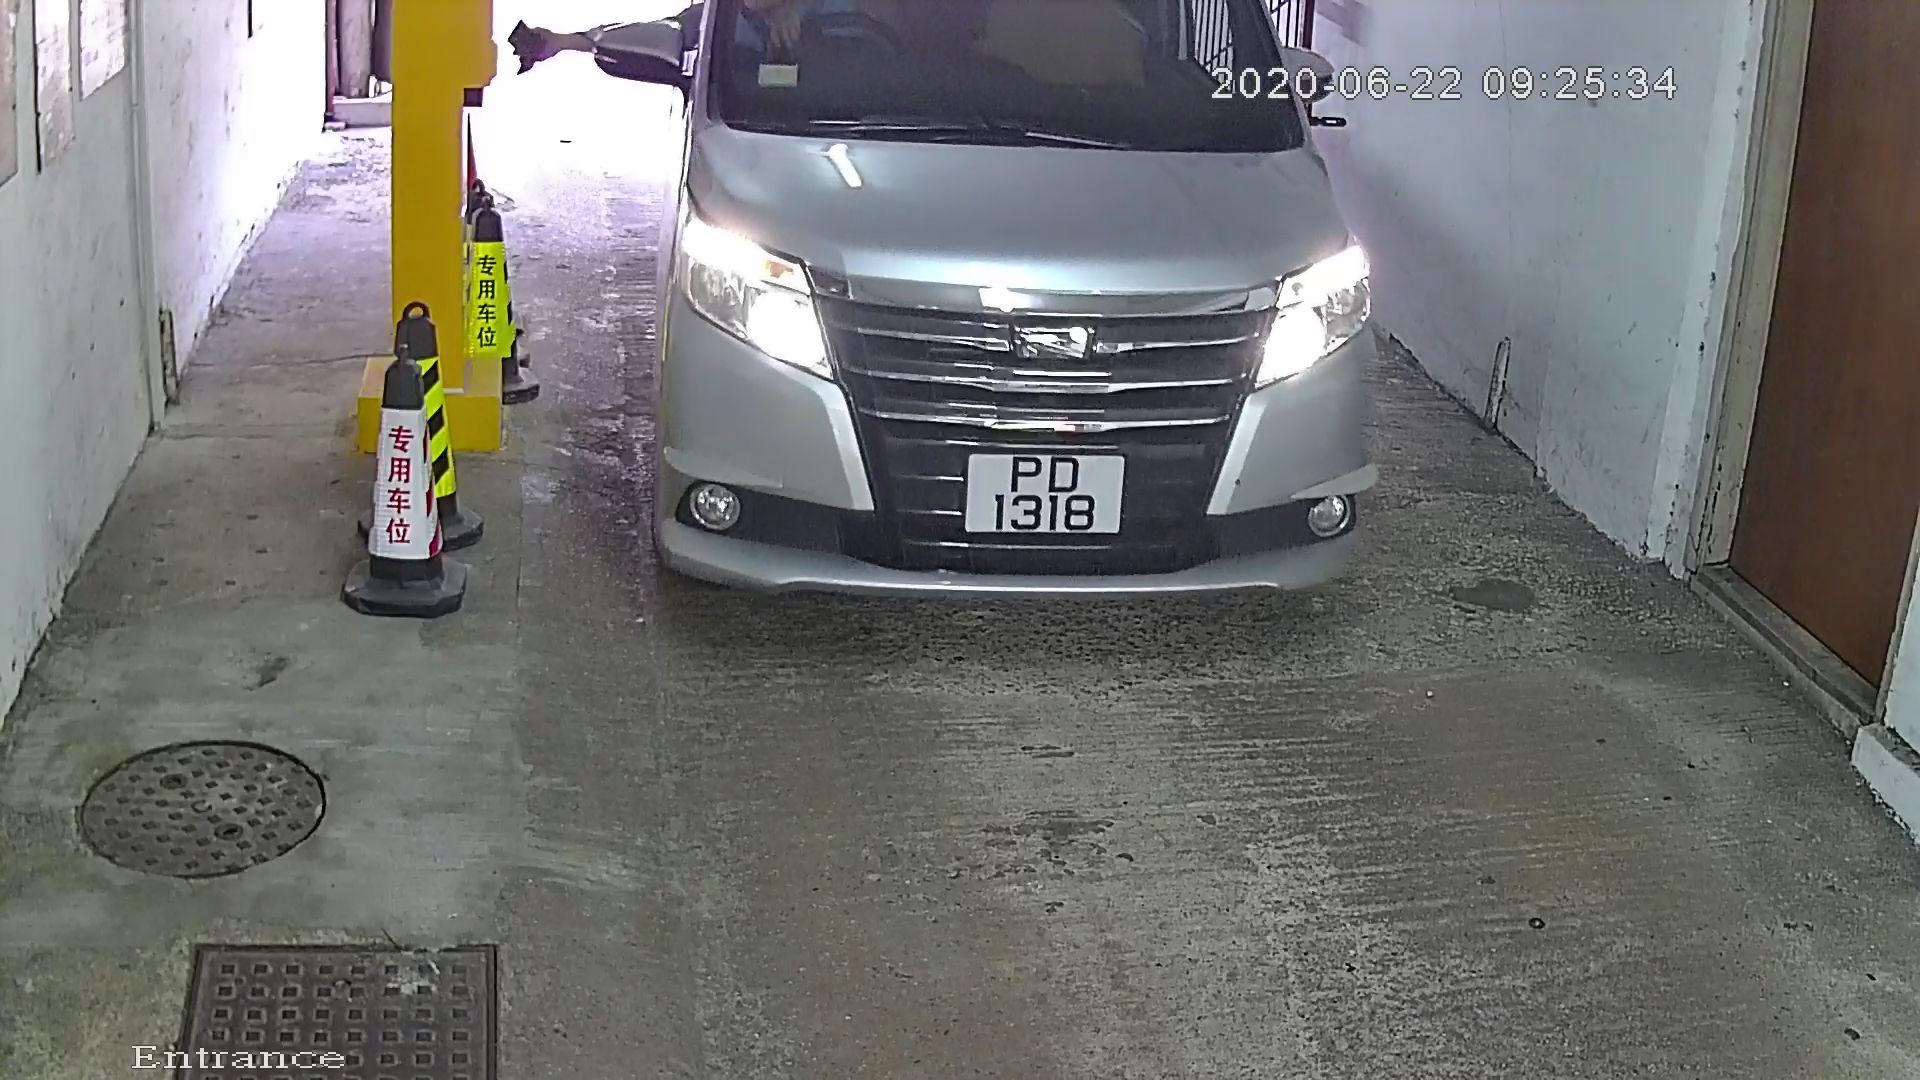privatecar: (611, 3, 1425, 653)
